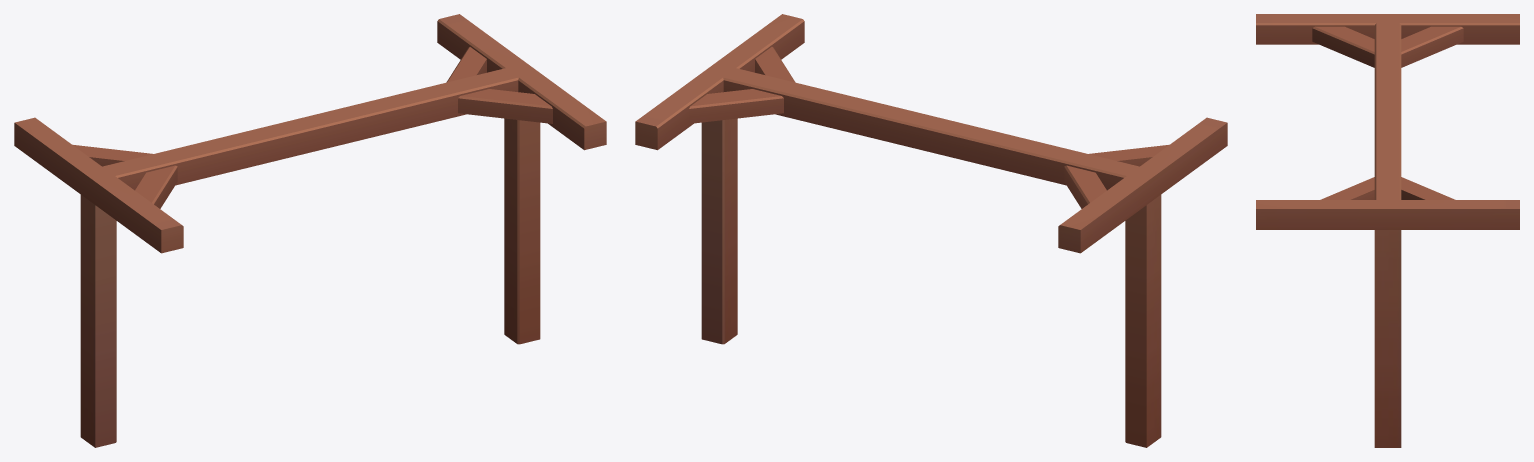
The model's file is scaffold_pillars_connected.glb.
3 renders of one model, left to right at view 1: azimuth 30°, elevation 25°; view 2: azimuth 150°, elevation 25°; view 3: azimuth 270°, elevation 25°, orthographic. The views are drawn at different scales.
Visible parts, largest first — view 1: scaffold_pillars_connected; view 2: scaffold_pillars_connected; view 3: scaffold_pillars_connected.
Part boxes in pixels (<box>): scaffold_pillars_connected: <box>14,14,606,447</box>; scaffold_pillars_connected: <box>635,14,1227,447</box>; scaffold_pillars_connected: <box>1256,14,1519,447</box>.
Bounding box in the file's own units: 7 × 4 × 4.
Materials: 1 (1 with a texture image).
